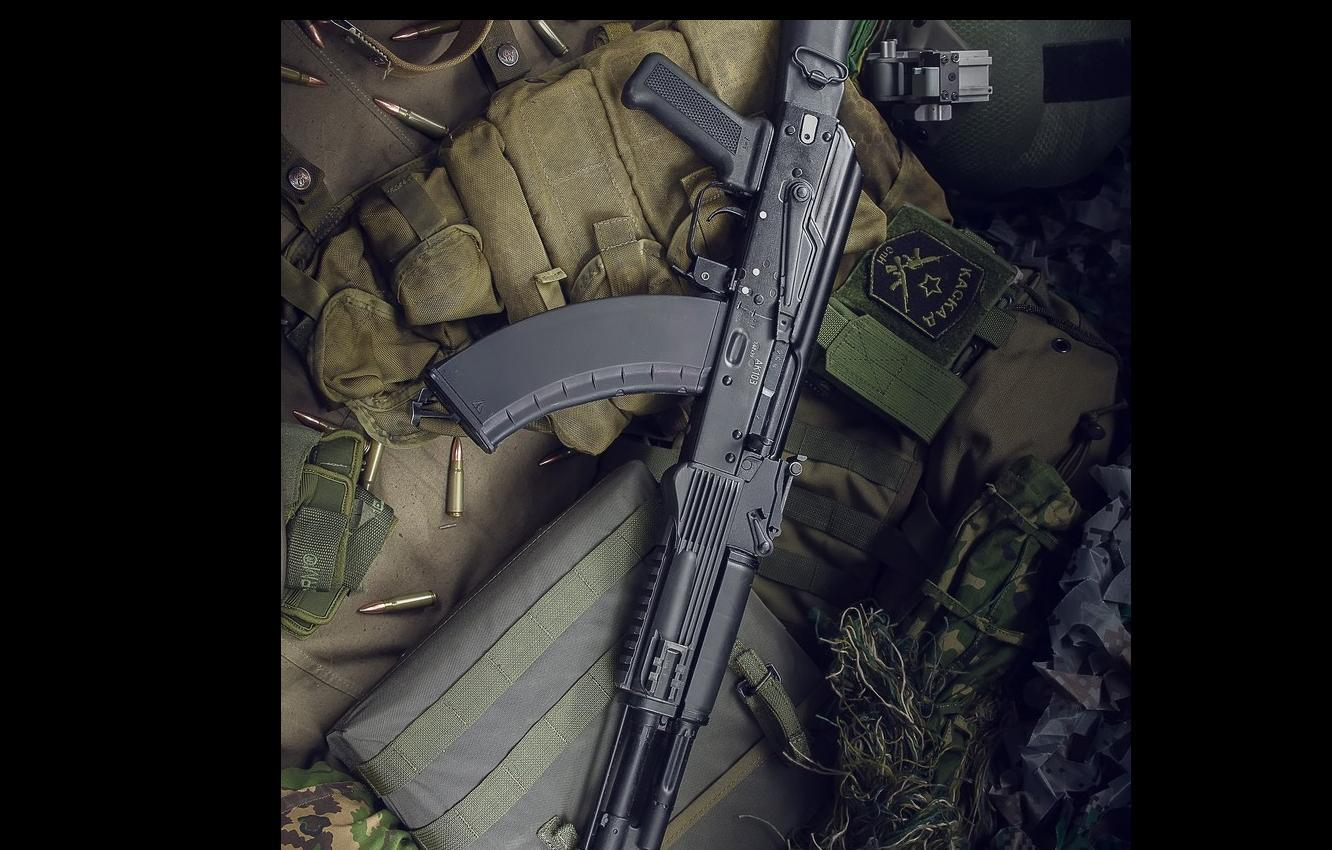larga: (429, 21, 866, 850)
